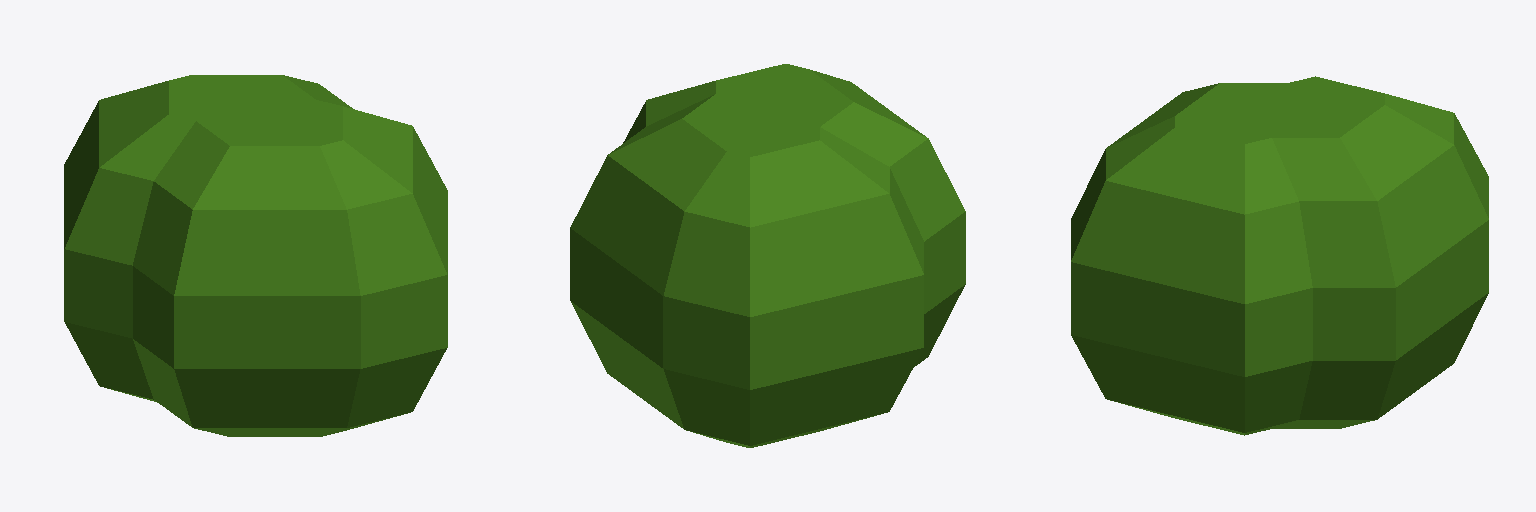
Rendered from Hilly_Prop_Bush_4.obj.
The picture shows the model from 3 angles: view 1: azimuth 30°, elevation 25°; view 2: azimuth 150°, elevation 25°; view 3: azimuth 270°, elevation 25°; orthographic projection.
Visible parts, largest first — view 1: object1; view 2: object1; view 3: object1.
Boxes of the visible parts, x1,y1,x2,y2 form: object1: [64, 75, 447, 436]; object1: [570, 64, 965, 447]; object1: [1071, 76, 1488, 435].
Size of the model in its own units: 1 by 0.8 by 1.04.